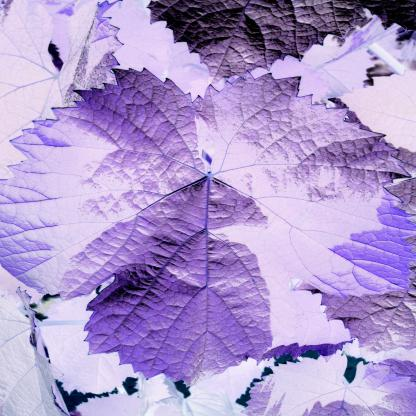grape leaf: (0, 70, 409, 386)
